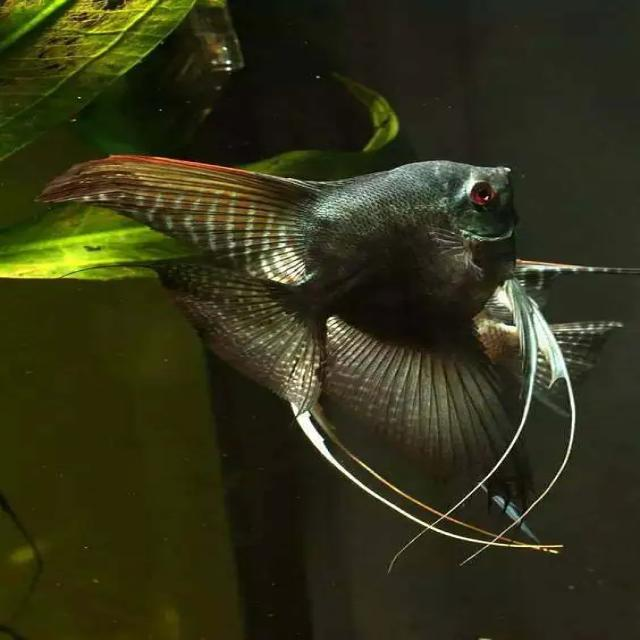AngelFish: (44, 152, 524, 556)
